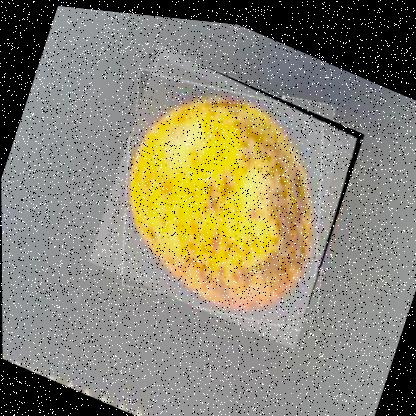mango_rotten: (86, 31, 367, 347)
